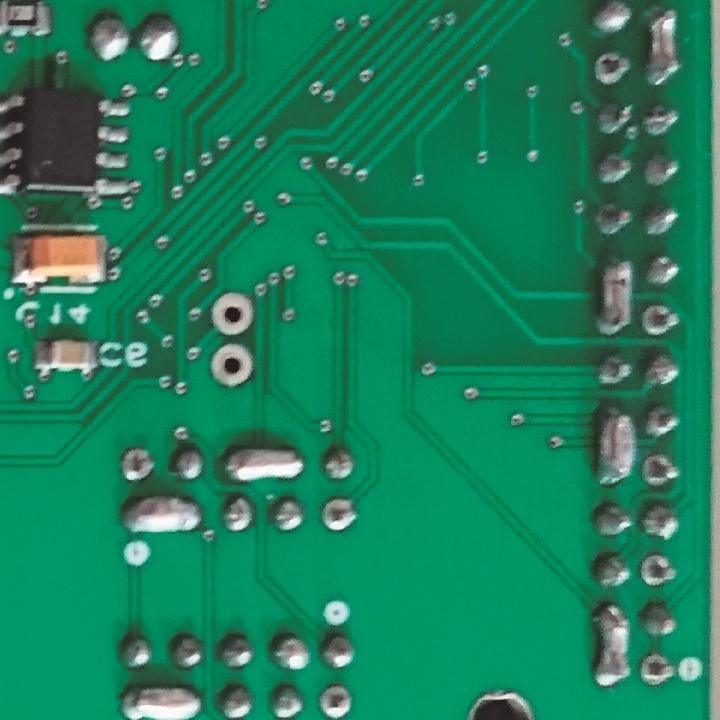F: (210, 339, 255, 391), (210, 291, 256, 340), (638, 548, 678, 592), (592, 50, 633, 91), (639, 298, 681, 338), (315, 680, 357, 720), (637, 649, 676, 692), (641, 451, 680, 492), (321, 495, 360, 536), (119, 444, 158, 484)
P: (119, 494, 200, 538), (222, 445, 307, 486), (645, 3, 682, 89), (599, 403, 636, 489), (596, 601, 631, 689), (596, 252, 632, 337), (121, 680, 198, 718)
